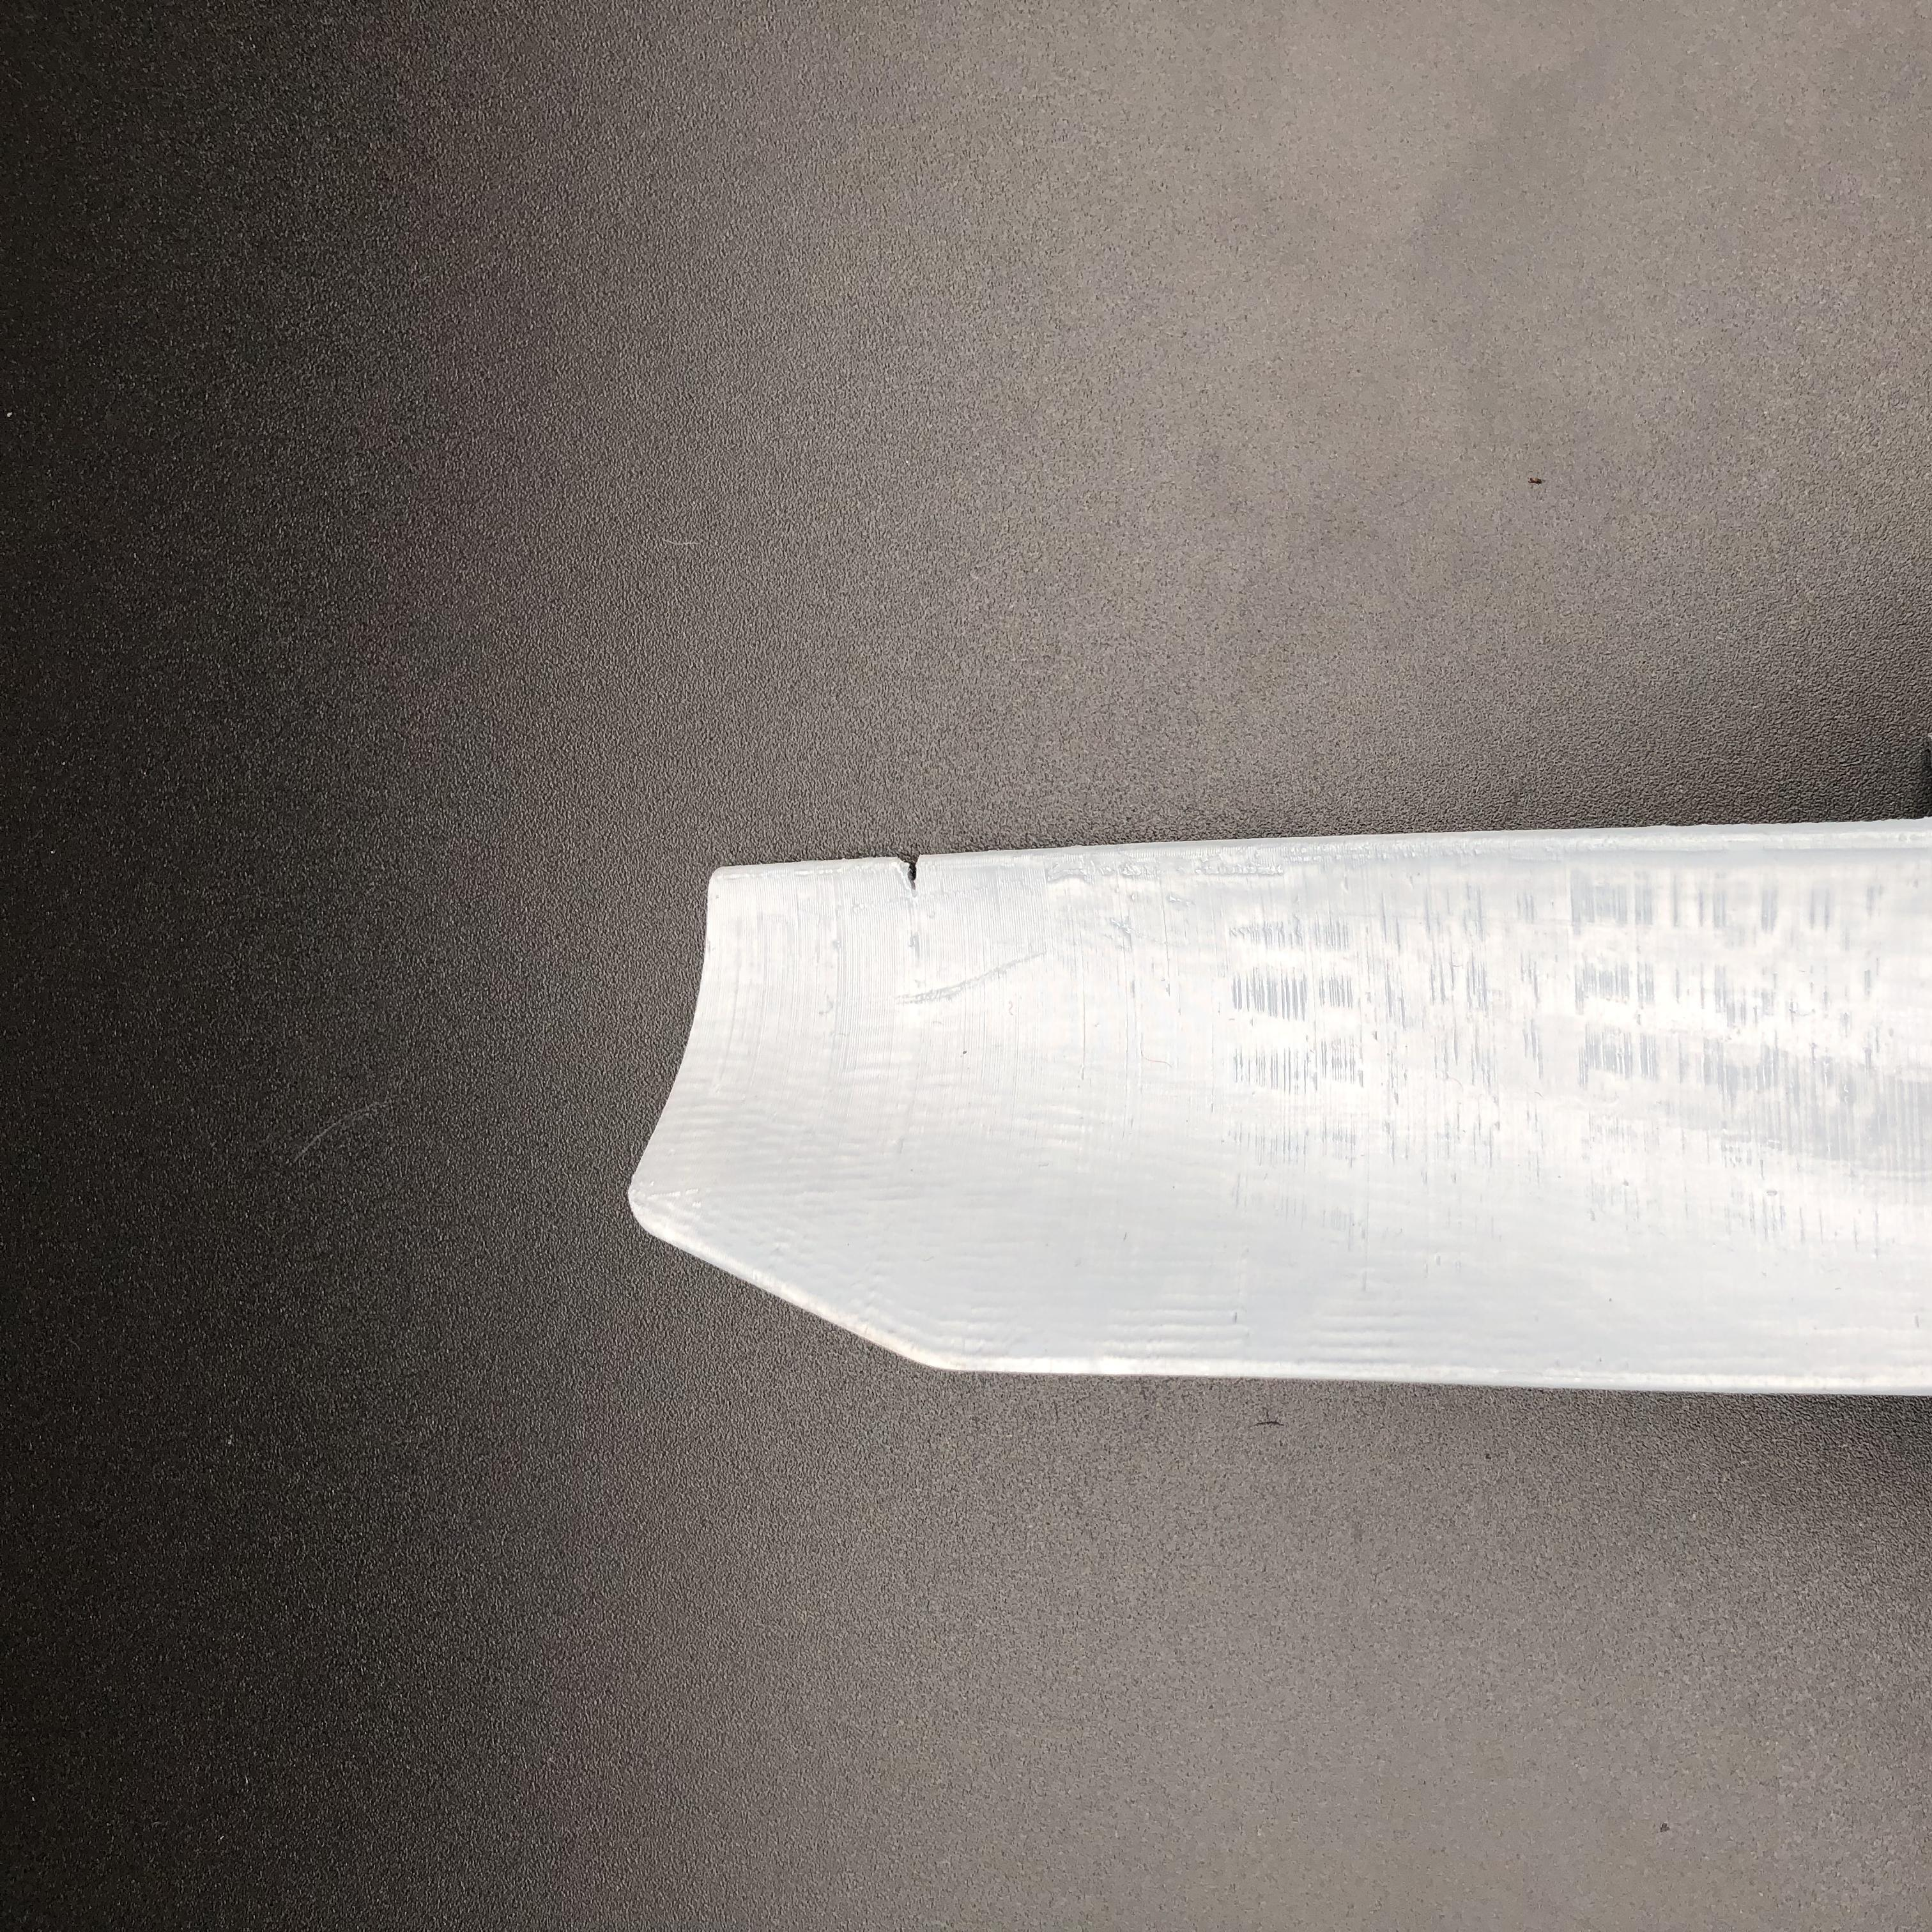groove: (895, 855, 936, 892)
